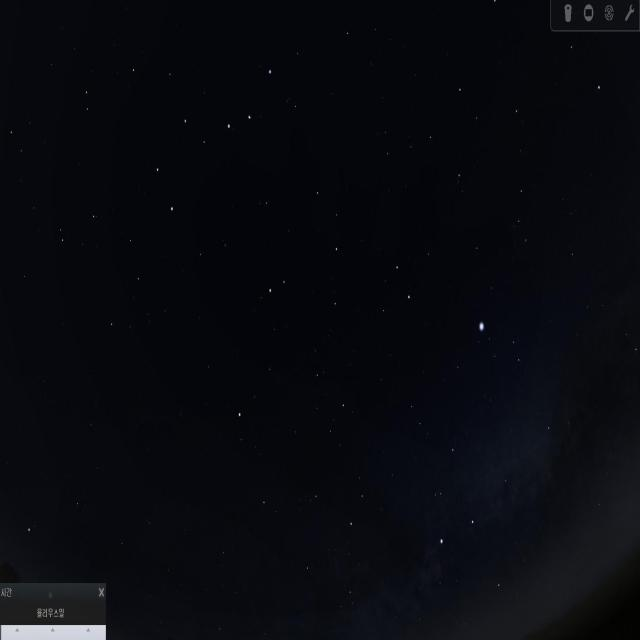cygnus: (423, 415, 560, 593)
lyra: (470, 313, 524, 377)
ursa_major: (158, 66, 279, 206)
